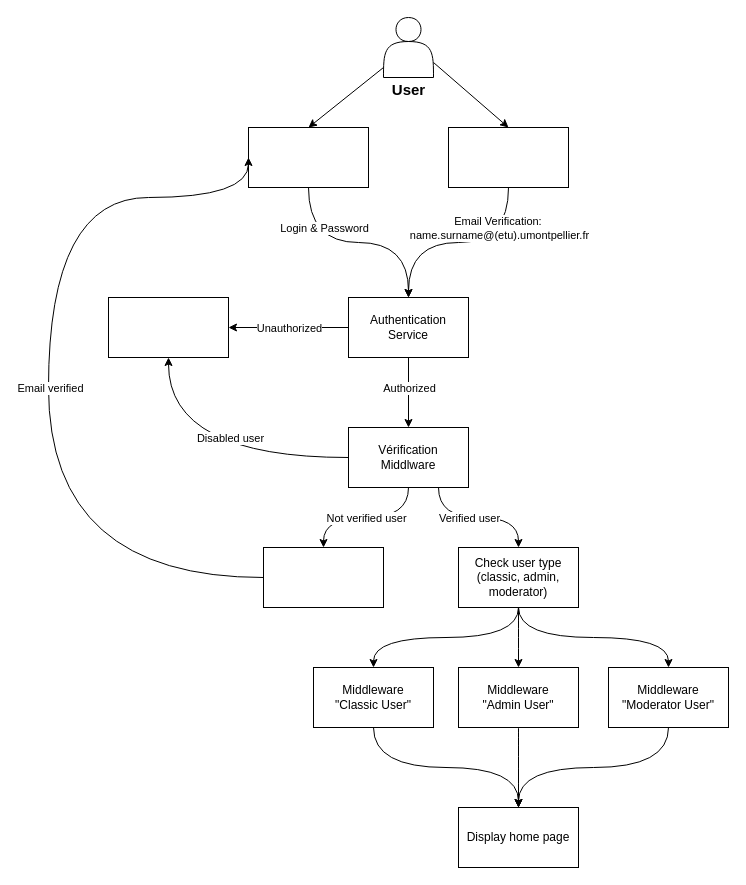
Some shapes in this 746 by 885 pixel diagram are drawn without their labels. Each missing label, with the centre of its shape:
Display Error: point 168,327
Login: point 308,157
Register: point 508,157
Wait email verification: point 323,577
